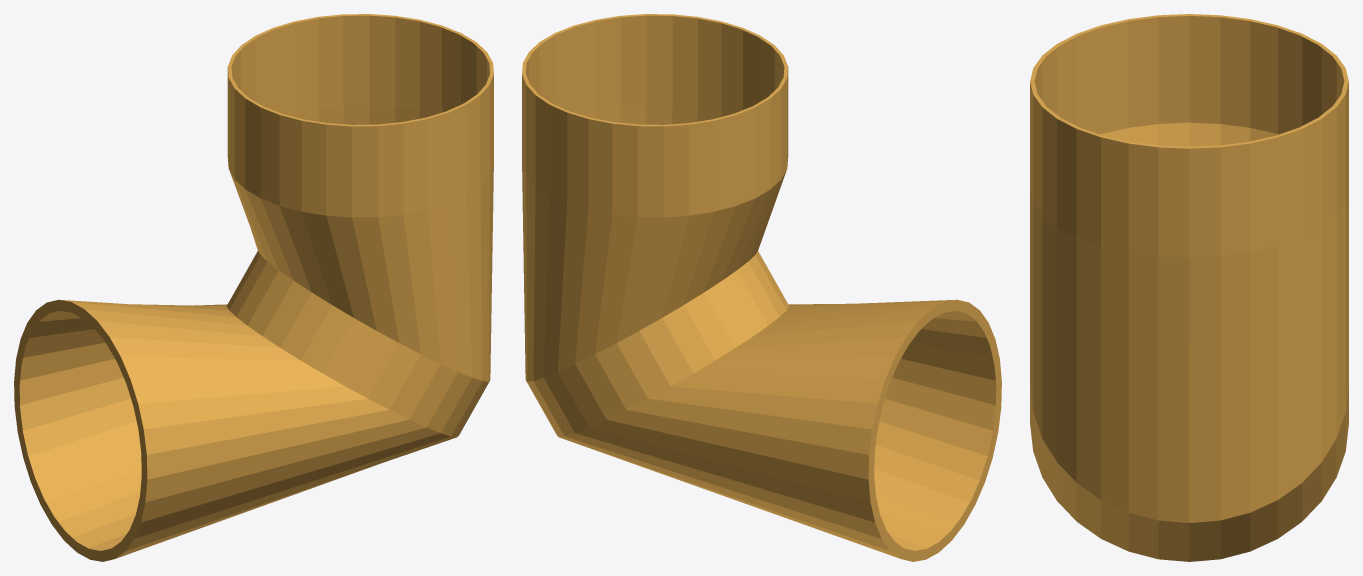
Rendered from tubeangledroit.fbx.
3 renders of one model, left to right at view 1: azimuth 30°, elevation 25°; view 2: azimuth 150°, elevation 25°; view 3: azimuth 270°, elevation 25°, orthographic. The views are drawn at different scales.
Visible parts, largest first — view 1: Cylinder.005; view 2: Cylinder.005; view 3: Cylinder.005.
Part boxes in pixels (bbox=[...]): Cylinder.005: bbox=[14, 14, 493, 561]; Cylinder.005: bbox=[522, 14, 1001, 561]; Cylinder.005: bbox=[1030, 14, 1348, 561].
Bounding box in the file's own units: 346 × 342 × 200.
